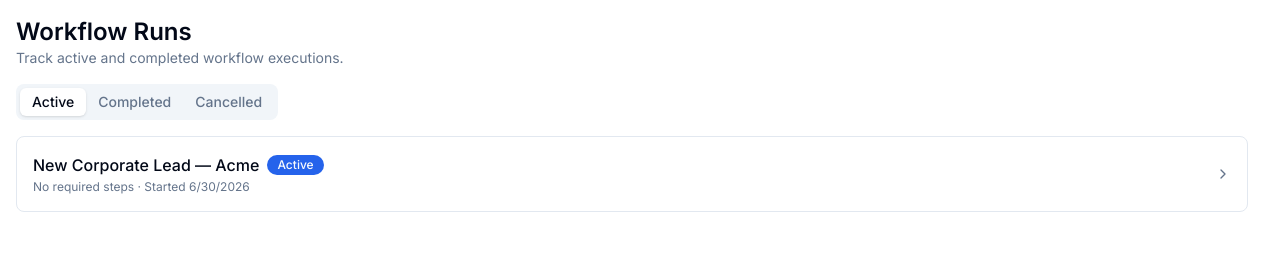
it: BusinessContextSection — no entity › renders business-context-section in run detail
Click the button.
click(146, 165)  # box [16,136,1248,212]
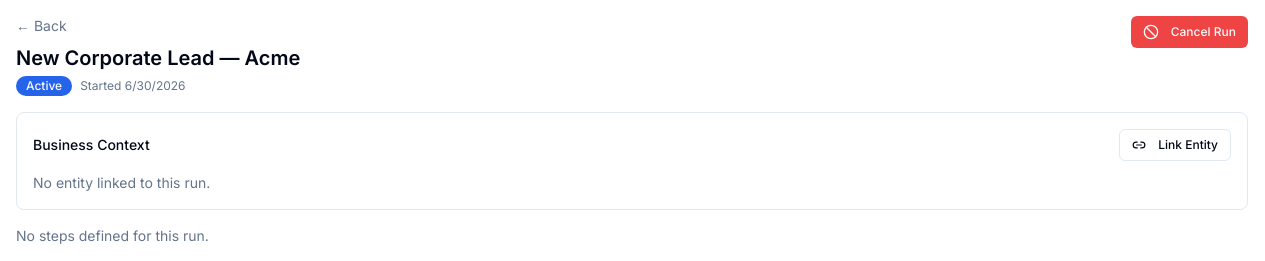
Check: the element with test id "business-context-section" is shown, box [16,112,1248,210]
